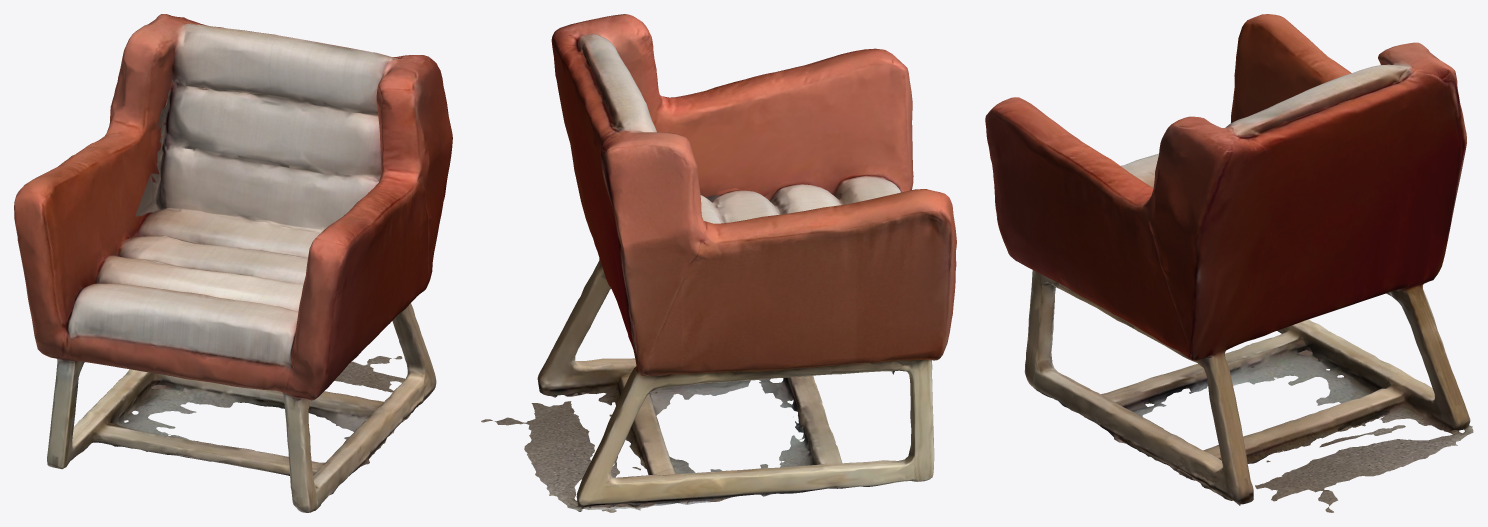
The model's file is Picard.glb.
3 renders of one model, left to right at view 1: azimuth 30°, elevation 25°; view 2: azimuth 150°, elevation 25°; view 3: azimuth 270°, elevation 25°, orthographic. The views are drawn at different scales.
Parts seen in each view (by area): view 1: unnamed_n3d4; view 2: unnamed_n3d4; view 3: unnamed_n3d4.
Boxes of the visible parts, box(x1,y1,x2,y2) form: unnamed_n3d4: box(14, 14, 452, 512); unnamed_n3d4: box(481, 14, 956, 512); unnamed_n3d4: box(985, 14, 1473, 512).
Size of the model in its own units: 1.12 by 0.9072 by 1.1.
Materials: 1 (1 with a texture image).
